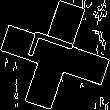L_E: (26, 32, 84, 78)
